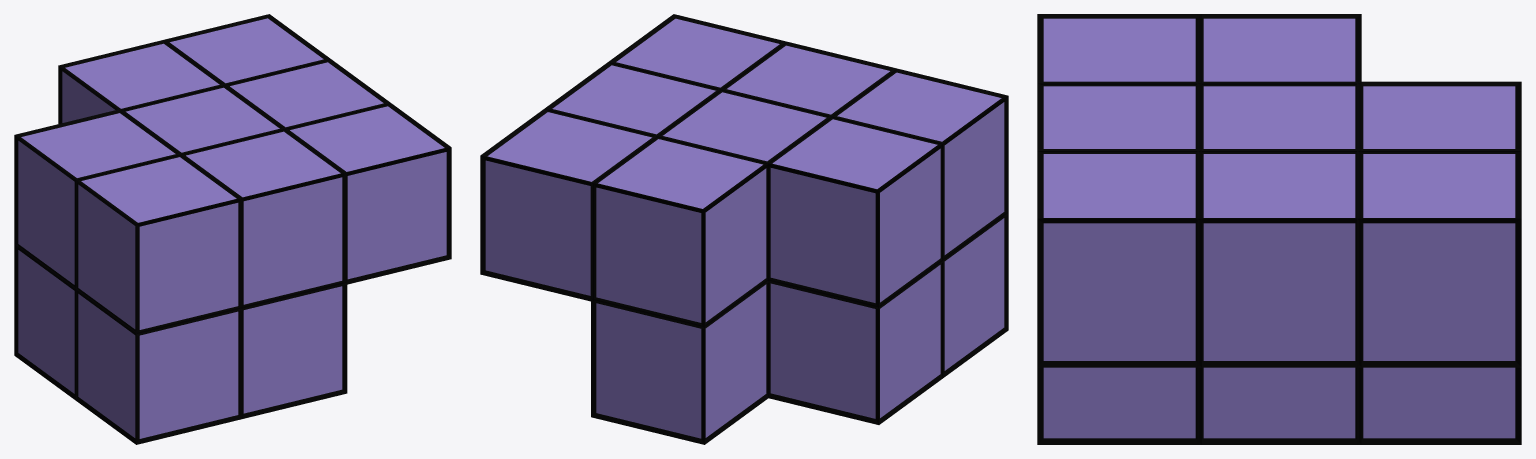
The picture shows the model from 3 angles, left to right: view 1: azimuth 30°, elevation 25°; view 2: azimuth 150°, elevation 25°; view 3: azimuth 270°, elevation 25°; orthographic projection. The views are drawn at different scales.
Parts seen in each view (by area): view 1: a1:Mesh; view 2: a1:Mesh; view 3: a1:Mesh.
Boxes of the visible parts, left/top/right/bottom form: a1:Mesh: left=14, top=14, right=451, bottom=444; a1:Mesh: left=480, top=14, right=1008, bottom=444; a1:Mesh: left=1037, top=14, right=1521, bottom=444.
Bounding box in the file's own units: 6.06 × 4.06 × 6.06.
